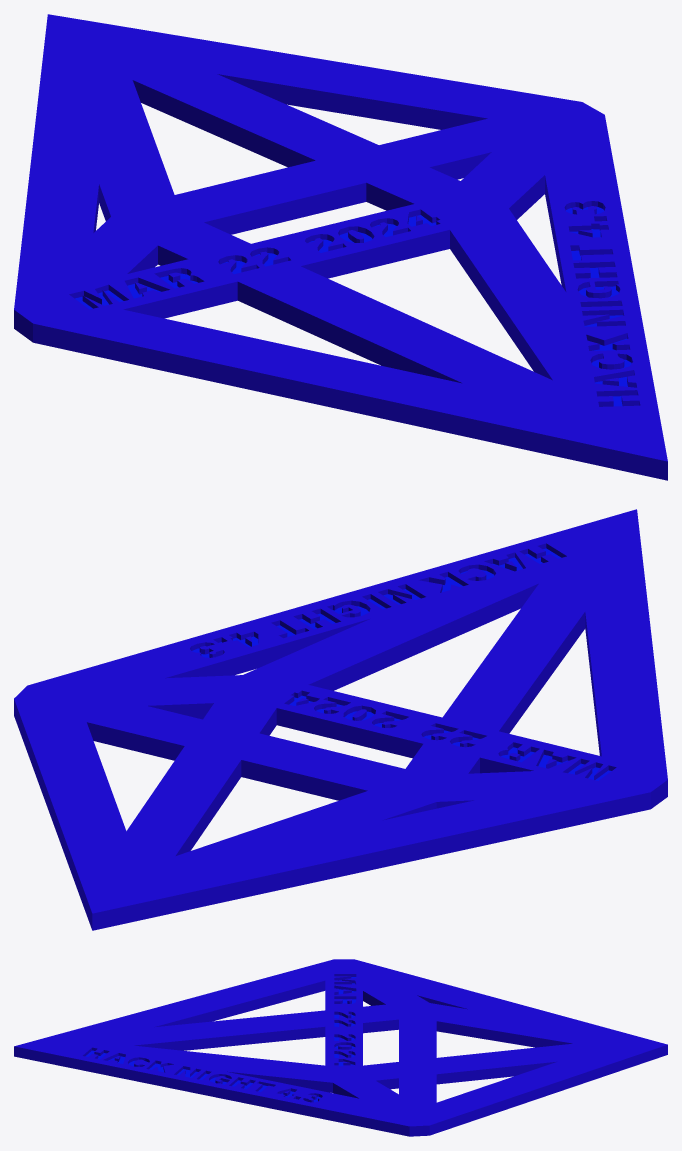
Rendered from badge4.3-flat.glb.
3 views of the same model, one above another, from view 1: azimuth 30°, elevation 25°; view 2: azimuth 150°, elevation 25°; view 3: azimuth 270°, elevation 25° (orthographic). The views are drawn at different scales.
Parts seen in each view (by area): view 1: Curve.004; view 2: Curve.004; view 3: Curve.004.
Boxes of the visible parts, <box> form: Curve.004: <box>14,14,667,480</box>; Curve.004: <box>14,509,667,930</box>; Curve.004: <box>14,959,667,1136</box>.
Size of the model in its own units: 1.41 by 0.04 by 2.32.
